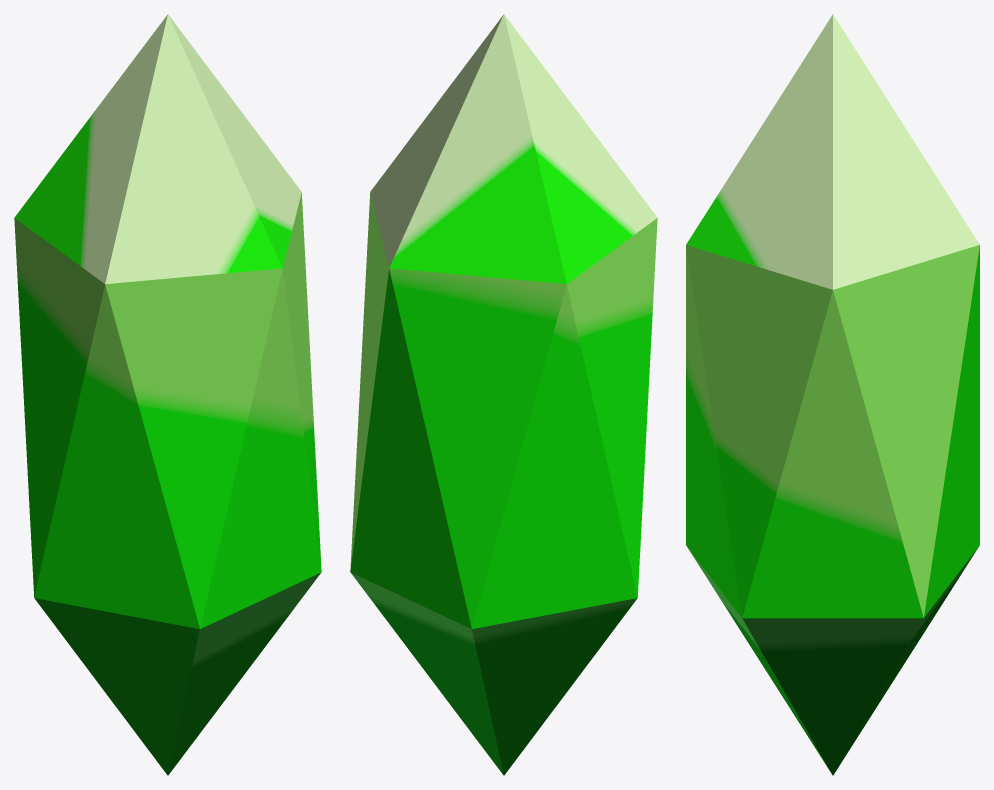
The model's file is crystal1.obj.
3 renders of one model, left to right at view 1: azimuth 30°, elevation 25°; view 2: azimuth 150°, elevation 25°; view 3: azimuth 270°, elevation 25°, orthographic.
Parts seen in each view (by area): view 1: 1_Icosphere.018; view 2: 1_Icosphere.018; view 3: 1_Icosphere.018.
Part boxes in pixels (x1,y1,x2,y2): 1_Icosphere.018: (14, 14, 321, 775); 1_Icosphere.018: (350, 14, 657, 775); 1_Icosphere.018: (686, 14, 979, 775).
Bounding box in the file's own units: 6.06 × 16.48 × 5.76.
1 material, 1 textured.
